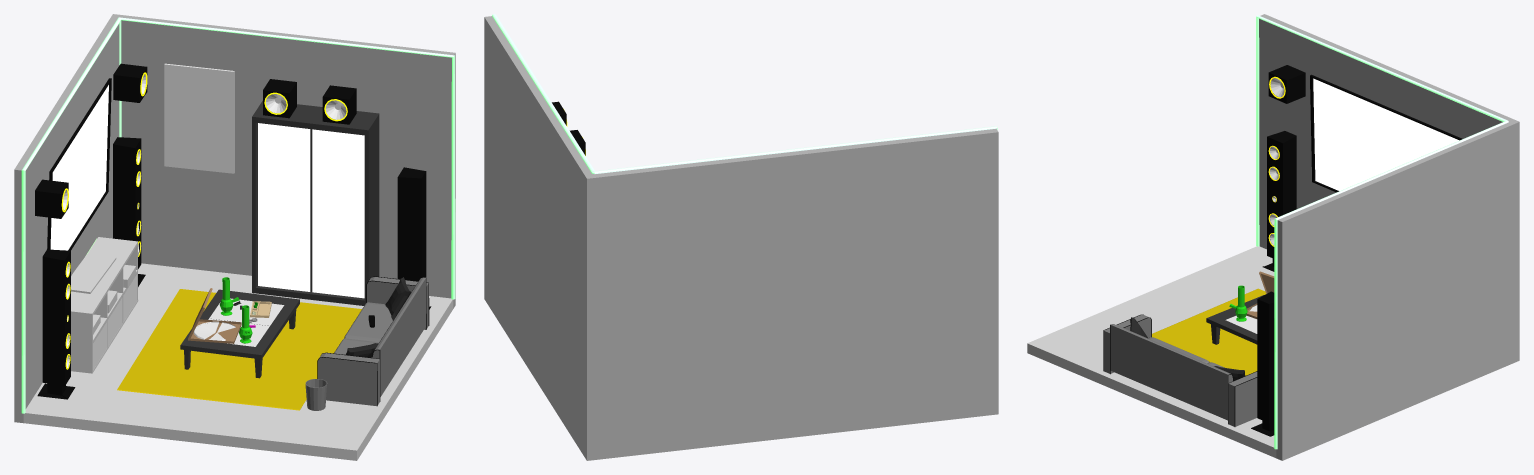
Rendered from room.glb.
The picture shows the model from 3 angles, left to right: view 1: azimuth 30°, elevation 25°; view 2: azimuth 150°, elevation 25°; view 3: azimuth 270°, elevation 25°; orthographic projection. The views are drawn at different scales.
Parts seen in each view (by area): view 1: Cubo_96, suelo_99, Cubo.035_90, Plano.003_41, Plano.005_43, Cubo.033_44, television.001_3, Cubo.042_100, estante_0, Cubo.001_101, Cubo.008_5, Cubo.002_102 (+14 smaller); view 2: Cubo_96, Cubo.042_100; view 3: Cubo_96, suelo_99, television.001_3, Cubo.001_101, Plano.003_41, Cubo.042_100, Cubo.034_45, Cubo.008_5, Cubo.002_102, television_1, Cubo.010_9, Cubo.014_14.
Boxes of the visible parts, box(x1,y1,x2,y2) form: Cubo_96: box(14, 14, 455, 423); suelo_99: box(23, 263, 453, 460); Cubo.035_90: box(258, 123, 364, 298); Plano.003_41: box(117, 289, 361, 410); Plano.005_43: box(164, 63, 234, 173); Cubo.033_44: box(252, 100, 379, 305); television.001_3: box(50, 85, 108, 250); Cubo.042_100: box(21, 17, 455, 413); estante_0: box(71, 237, 138, 373); Cubo.001_101: box(334, 277, 425, 396); Cubo.008_5: box(37, 249, 75, 399); Cubo.002_102: box(318, 277, 428, 406); Cubo_96: box(484, 16, 998, 460); Cubo.042_100: box(492, 14, 997, 173); Cubo_96: box(1259, 14, 1519, 460); suelo_99: box(1027, 246, 1276, 457); television.001_3: box(1313, 78, 1459, 190); Cubo.001_101: box(1110, 324, 1232, 420); Plano.003_41: box(1152, 288, 1266, 375); Cubo.042_100: box(1256, 15, 1508, 449); Cubo.034_45: box(1251, 291, 1274, 436); Cubo.008_5: box(1262, 131, 1296, 271); Cubo.002_102: box(1103, 315, 1257, 426); television_1: box(1310, 74, 1462, 192); Cubo.010_9: box(1268, 65, 1305, 103); Cubo.014_14: box(1206, 295, 1263, 344).
Bounding box in the file's own units: 22.19 × 11.94 × 22.19.
